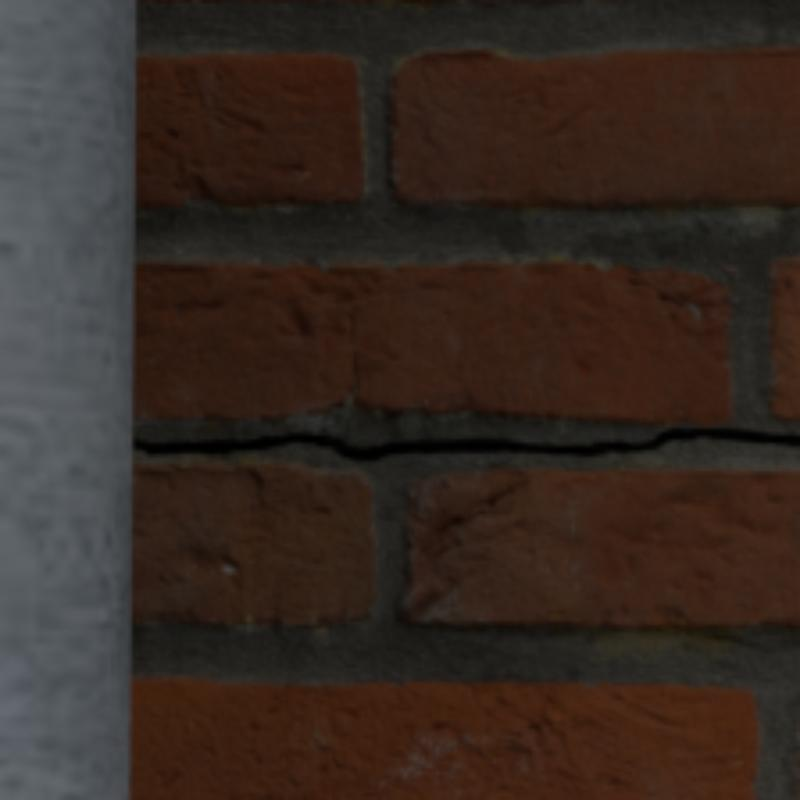pothole: (132, 429, 796, 457)
